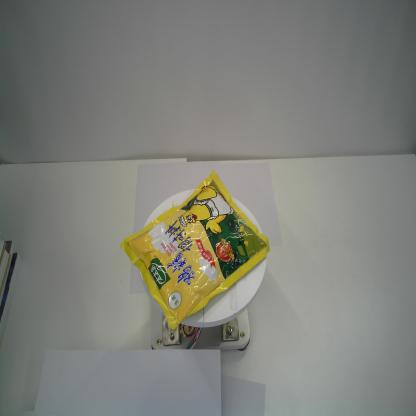Seasoner: (119, 169, 271, 332)
